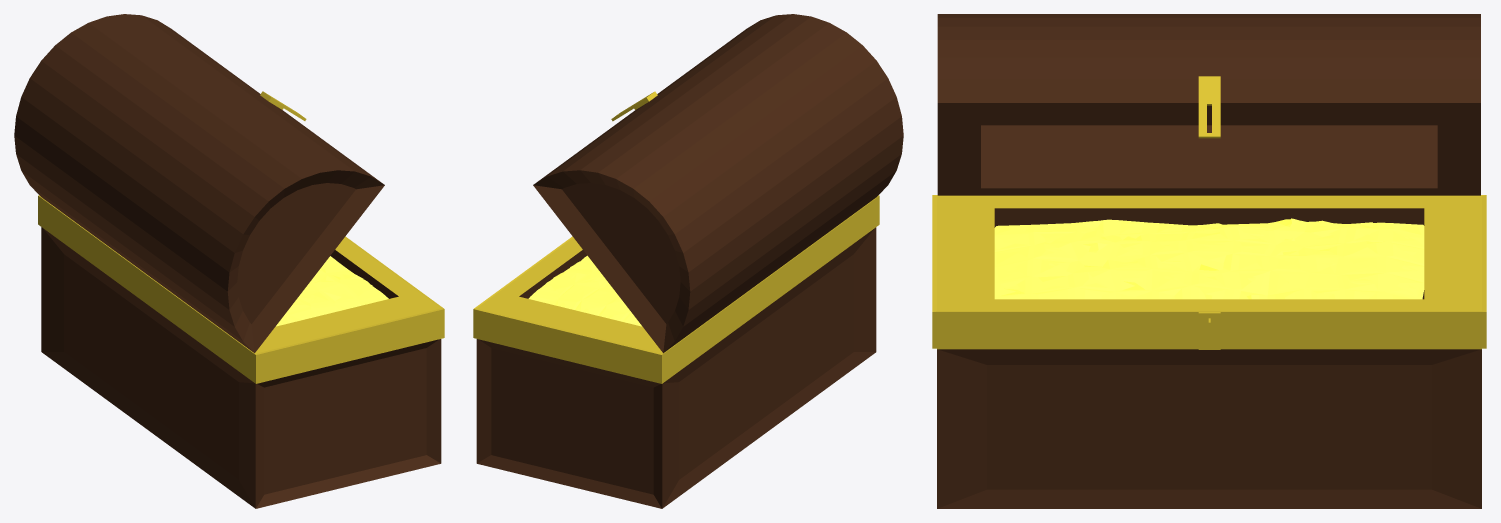
File: baú.fbx
3 views of the same model, side by side, from view 1: azimuth 30°, elevation 25°; view 2: azimuth 150°, elevation 25°; view 3: azimuth 270°, elevation 25° (orthographic). The views are drawn at different scales.
Parts seen in each view (by area): view 1: Cylinder, Cube, Cube.001; view 2: Cylinder, Cube, Cube.001; view 3: Cube, Cylinder, Cube.001.
Boxes of the visible parts, left/top/right/bottom form: Cylinder: left=14, top=14, right=384, bottom=353; Cube: left=38, top=195, right=444, bottom=508; Cube.001: left=276, top=256, right=388, bottom=326; Cylinder: left=533, top=14, right=903, bottom=353; Cube: left=473, top=195, right=879, bottom=508; Cube.001: left=528, top=255, right=642, bottom=326; Cube: left=932, top=195, right=1486, bottom=508; Cylinder: left=937, top=14, right=1480, bottom=195; Cube.001: left=994, top=218, right=1424, bottom=299.
Size of the model in its own units: 301 by 412 by 508.
